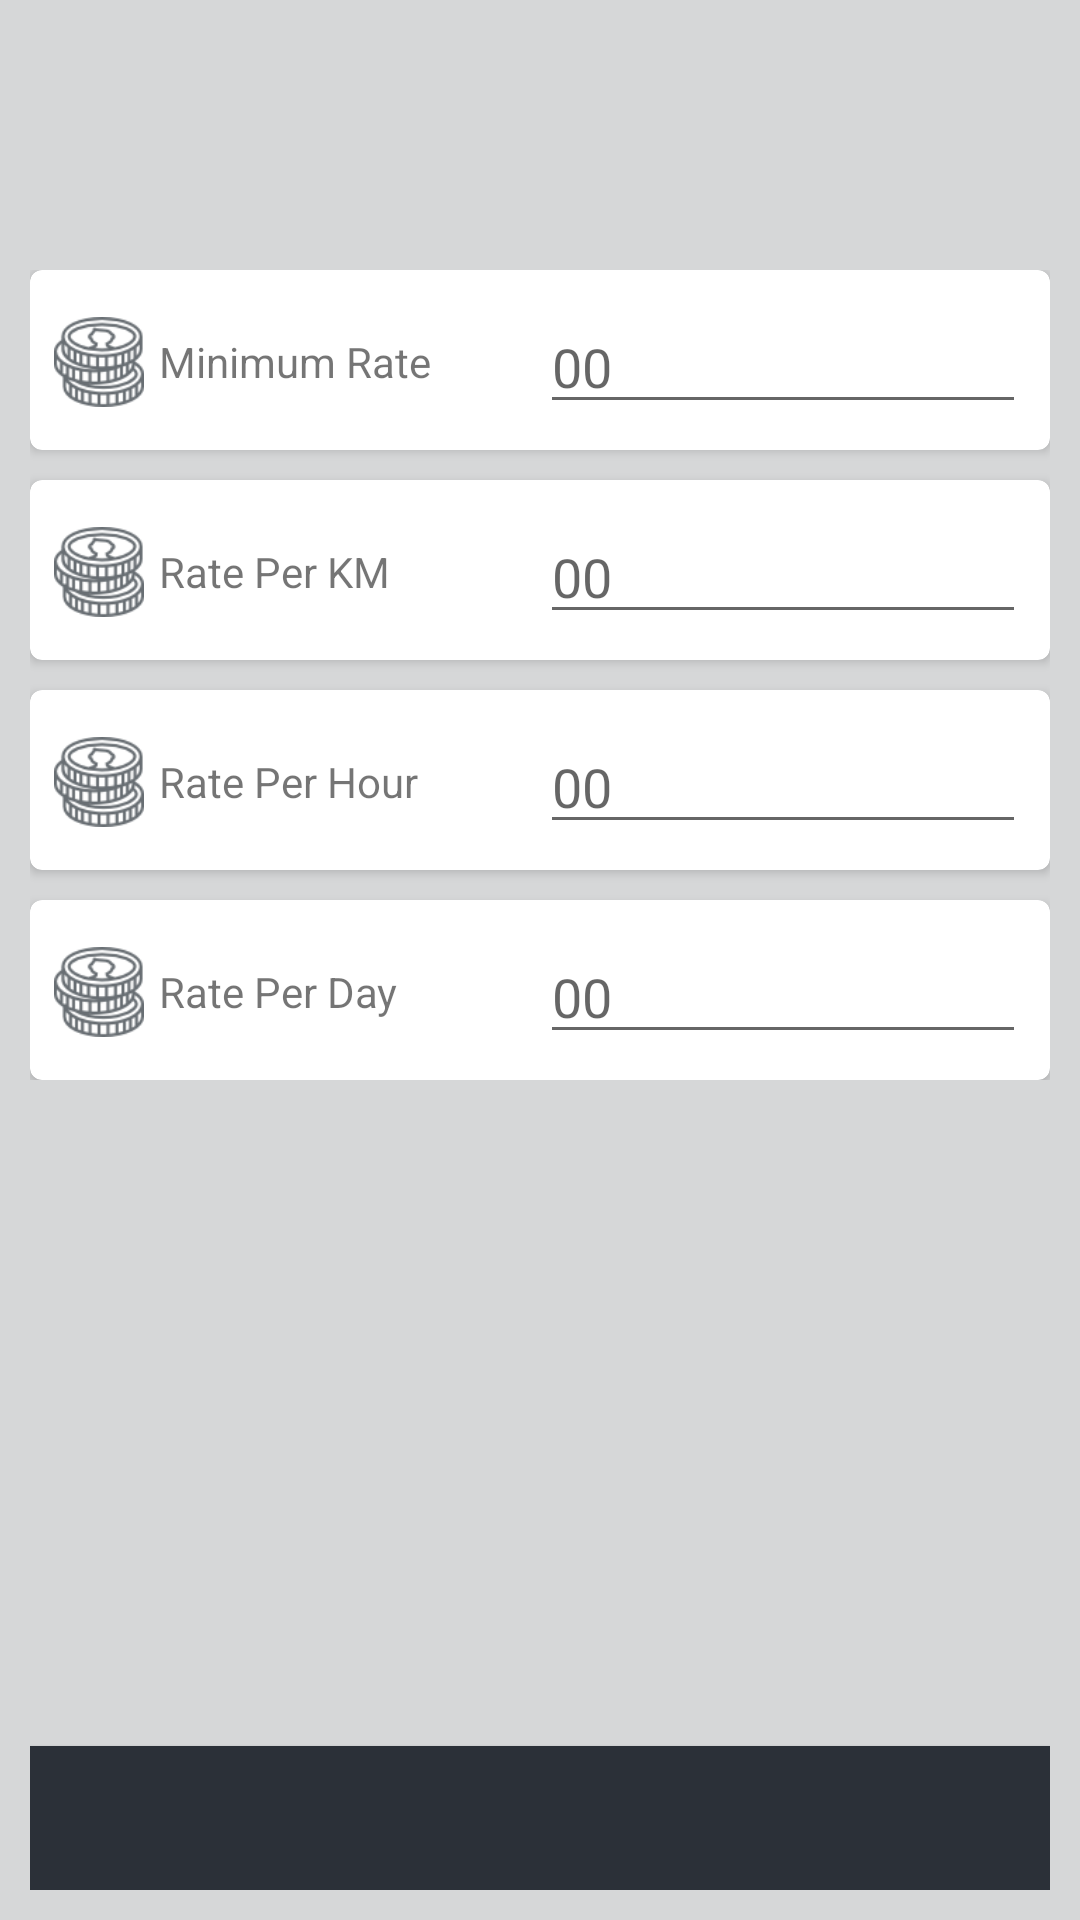

Screen size 1080*1920. Icon name, then its center in pixels as point (x, y):
coins: point (99, 362), point (99, 572), point (99, 782), point (99, 992)
